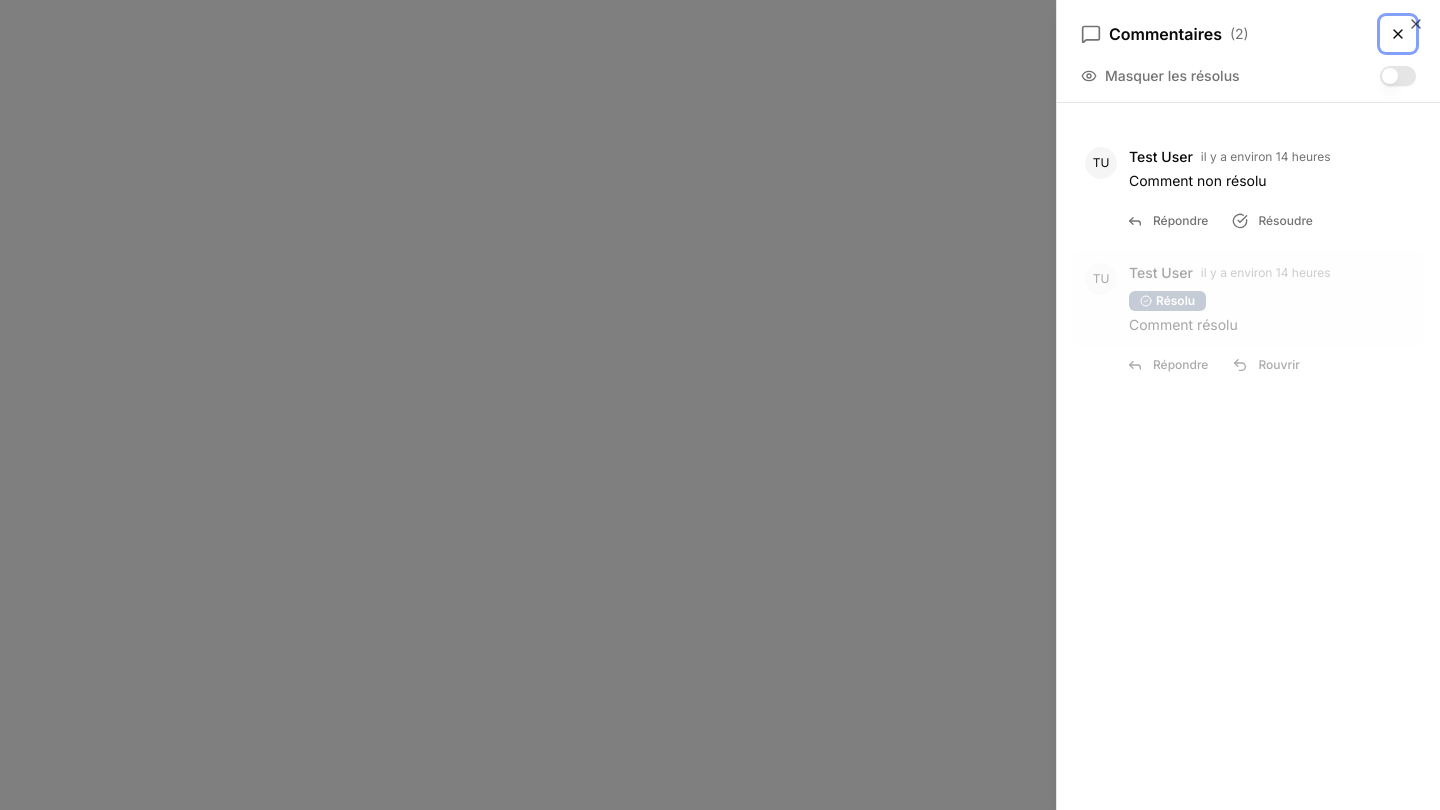
Test: CommentsSidebar › hide resolved filter (Story 9.6 AC #6) › should show resolved comments again when toggle is disabled
// Enable filter
Click the switch named "masquer les commentaires résolus" at (1398, 76), box [1380,66,1416,86]
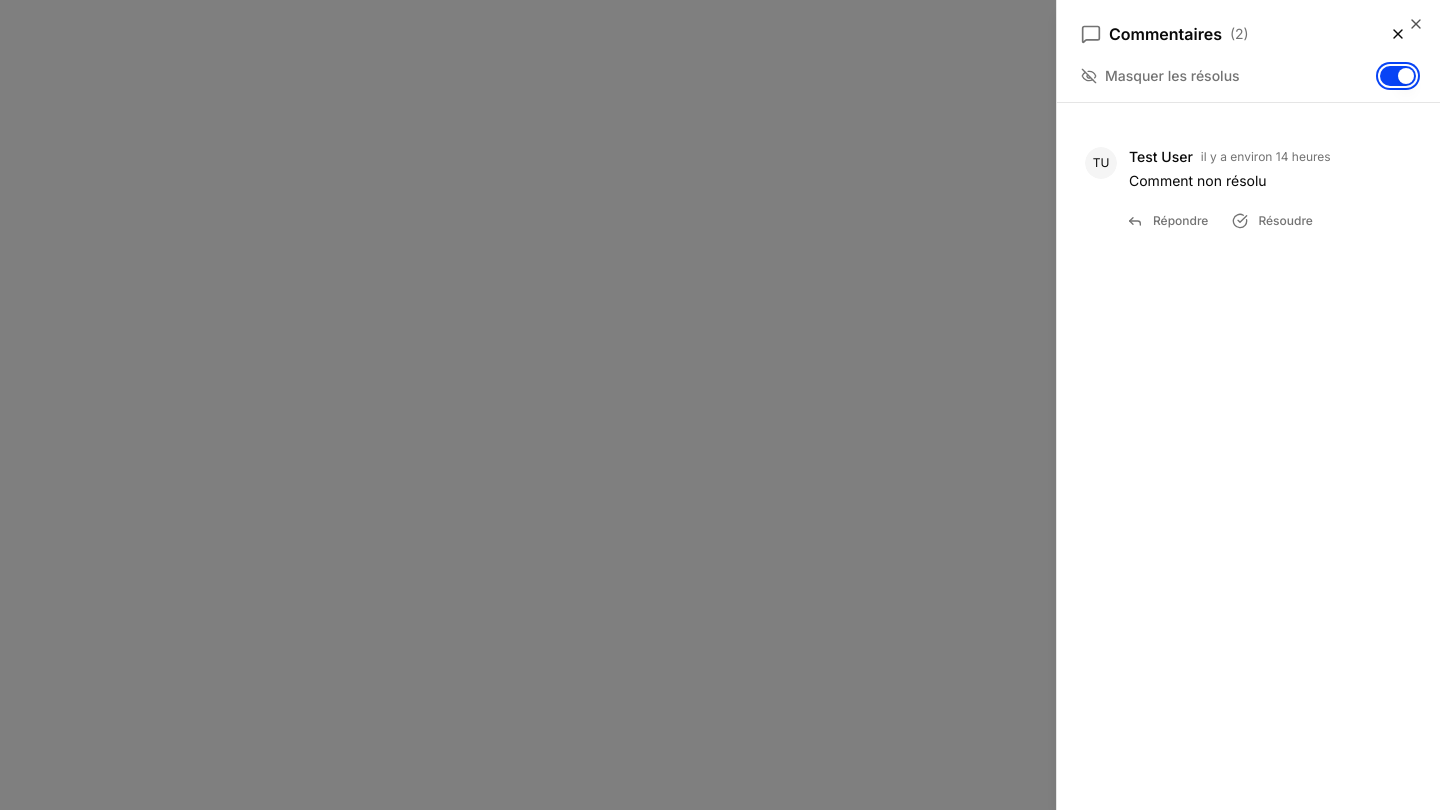
Expected: the text "Comment résolu" is gone
// Disable filter
Click the switch named "masquer les commentaires résolus" at (1398, 76), box [1380,66,1416,86]
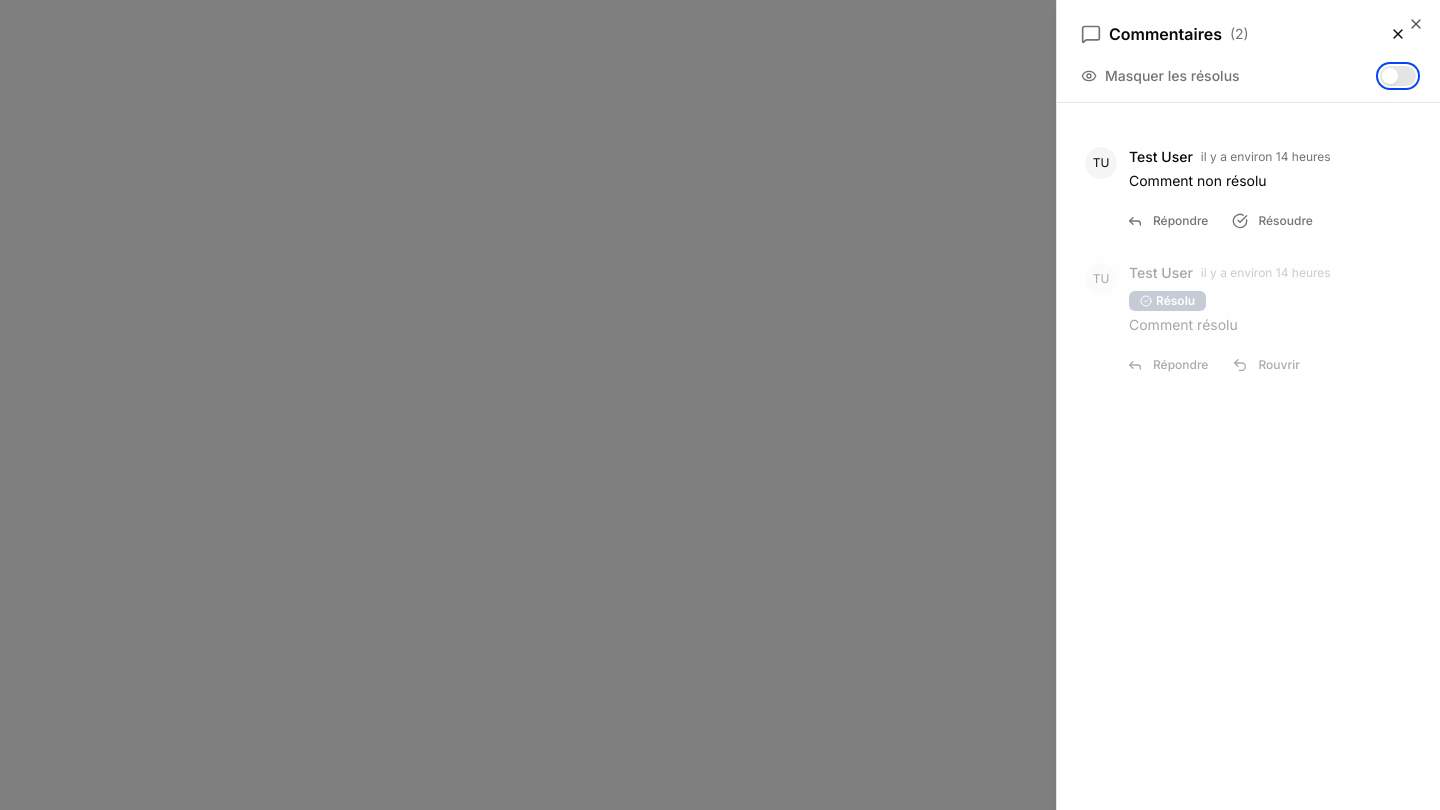
Expected: the text "Comment résolu" is shown, [1129,316,1238,333]
